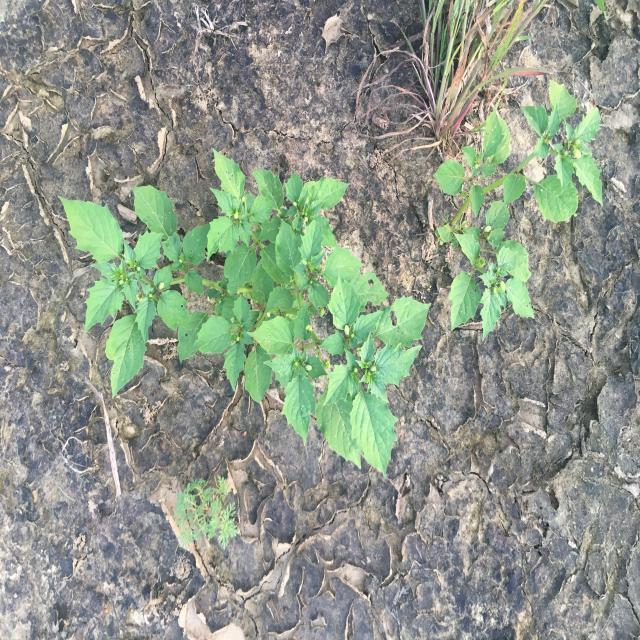CutleafGroundcherry: (56, 146, 434, 481), (431, 78, 605, 342)
Ragweed: (173, 474, 241, 552)
